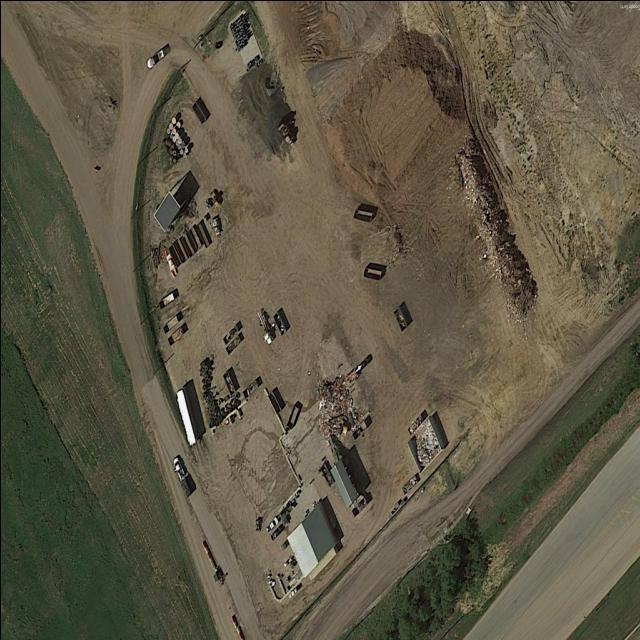dump_site: (303, 359, 361, 452), (404, 419, 439, 471)
